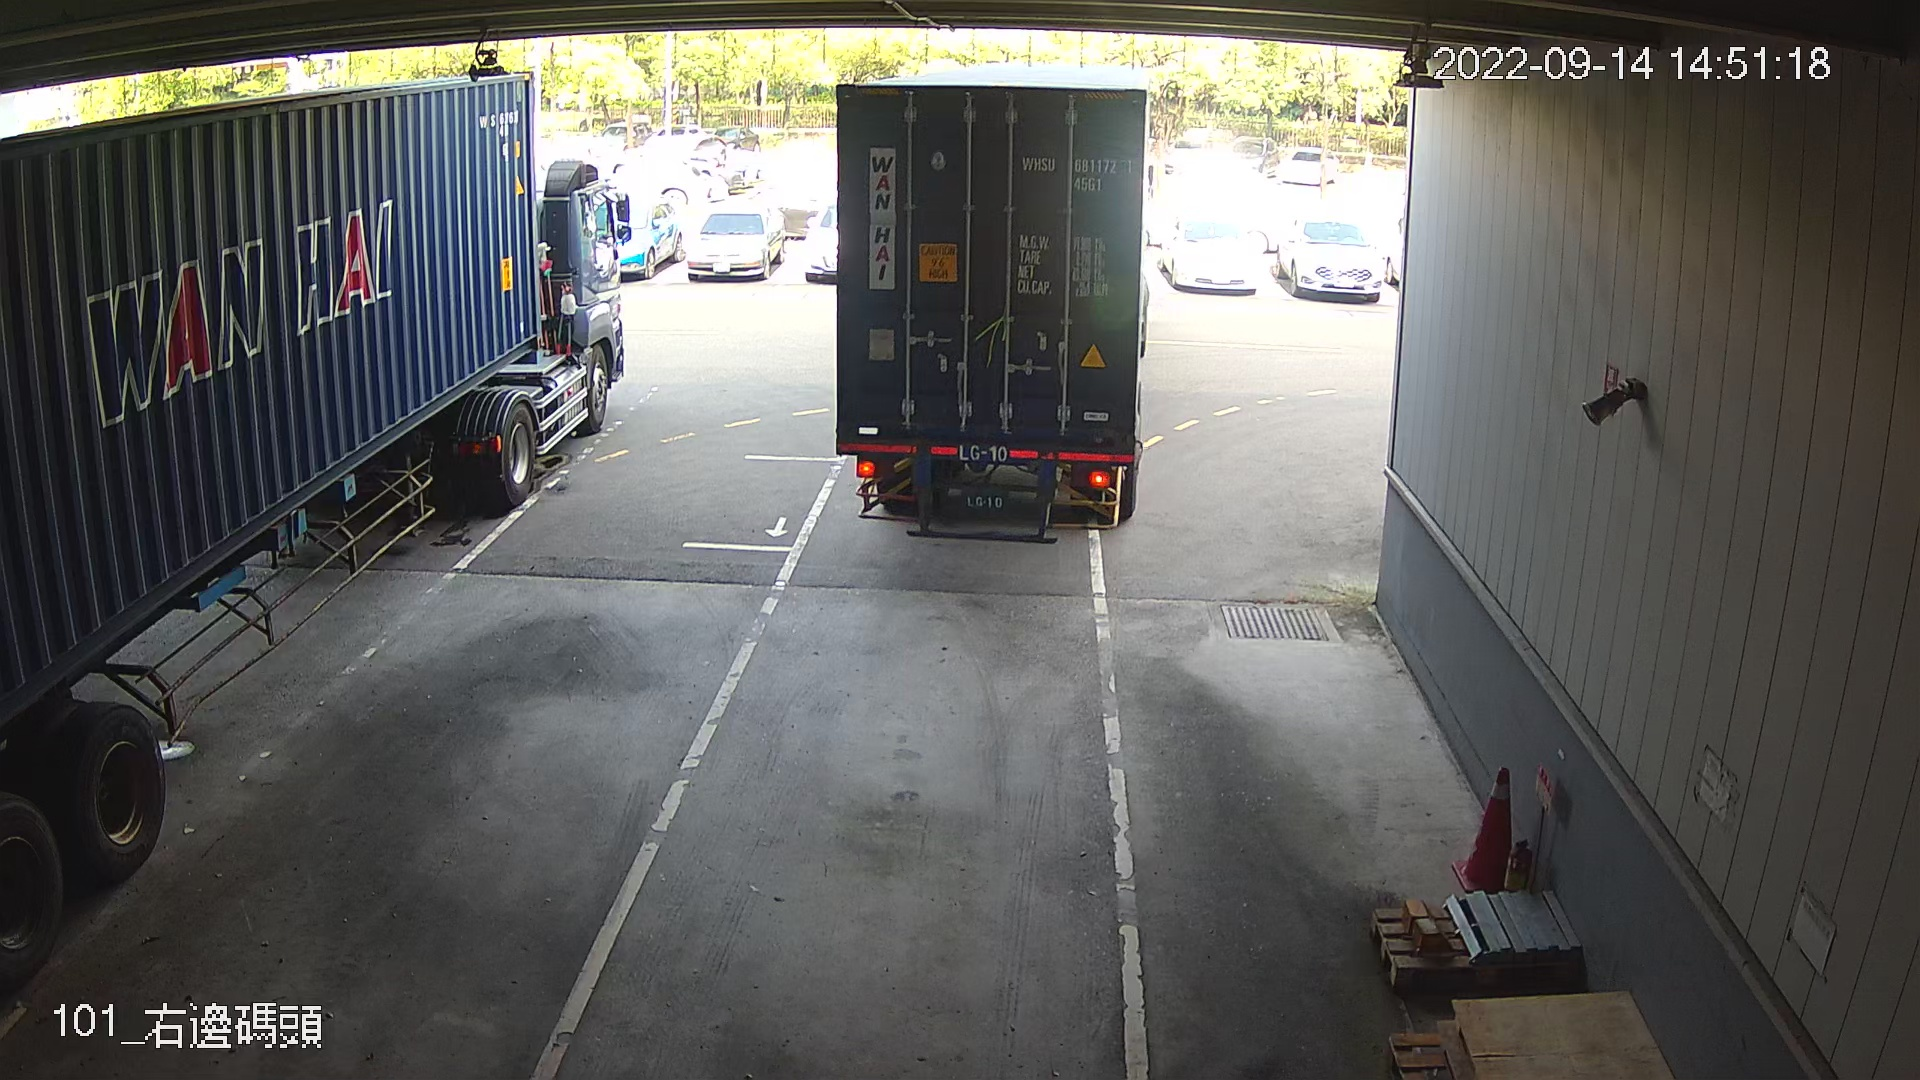container: (1011, 145, 1141, 198)
